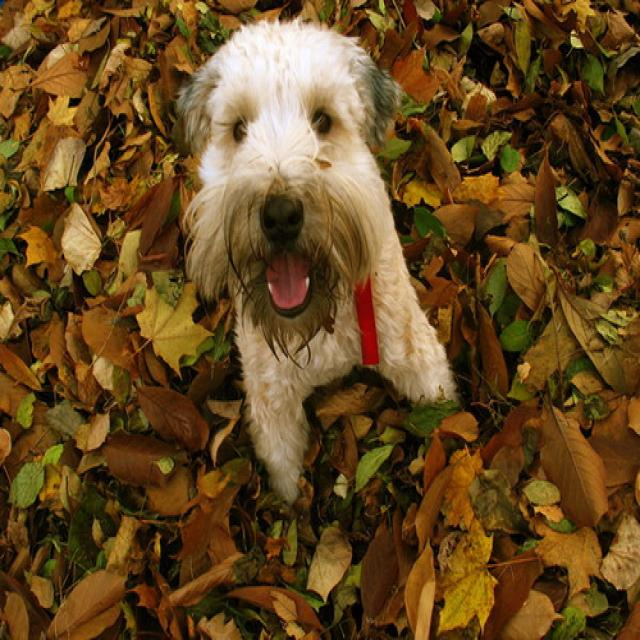dog-wheaten_terrier: (163, 10, 465, 523)
